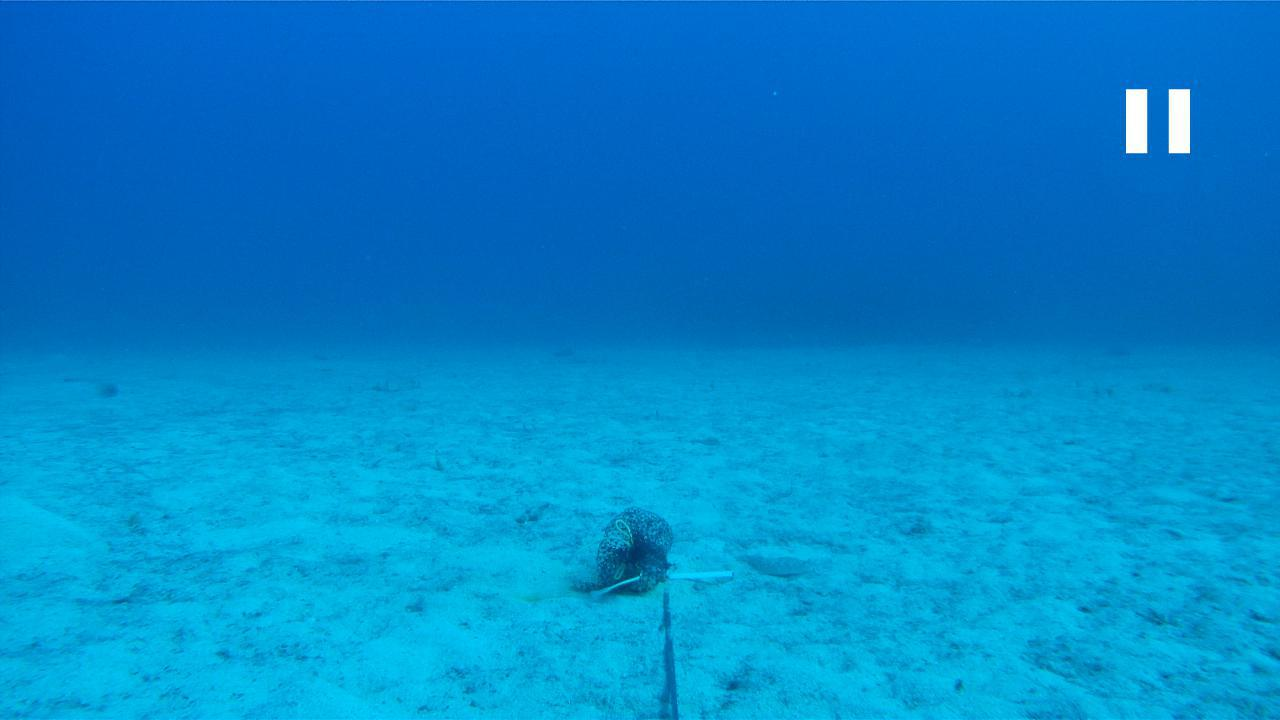bothus: (726, 549, 806, 578)
